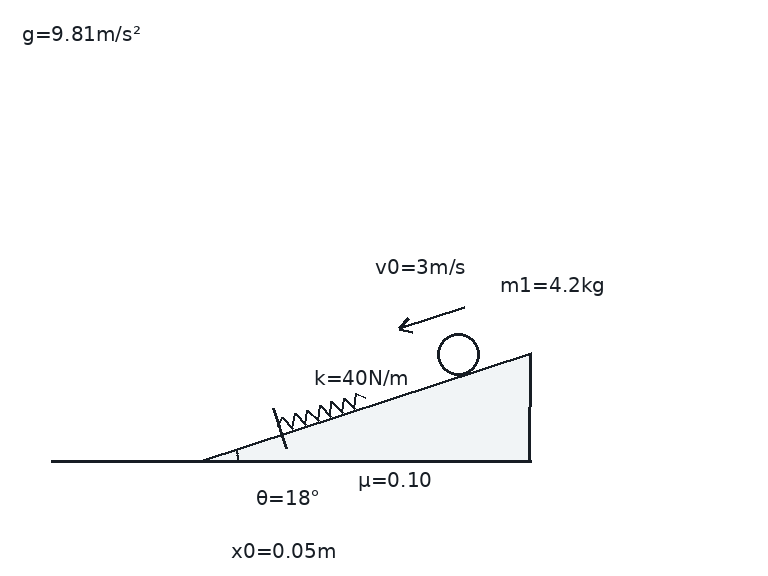ball: (435, 331, 481, 377)
ramp: (196, 351, 532, 463)
spring: (276, 391, 366, 430)
